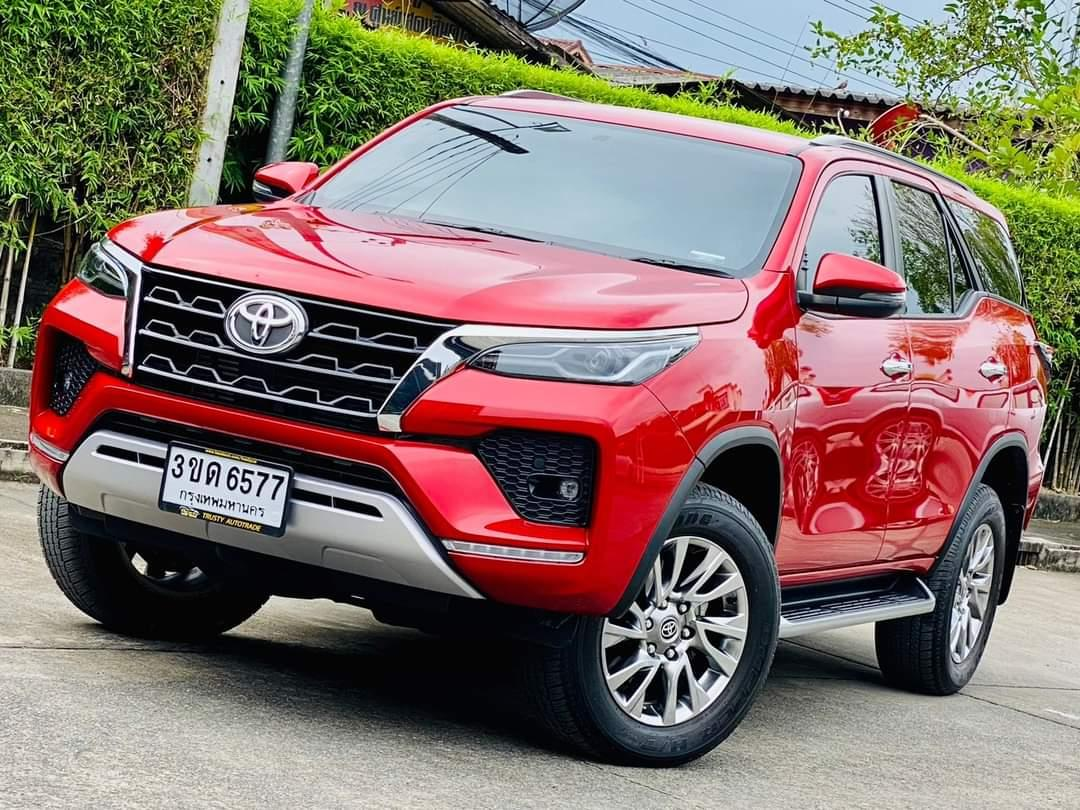license-plate: (157, 437, 302, 540)
